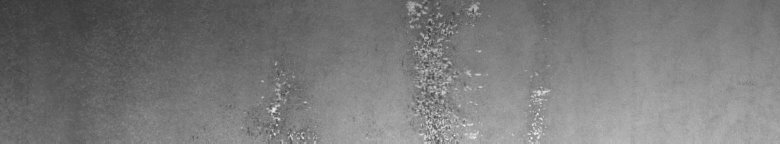hc: (400, 4, 551, 136)
